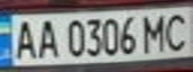0: (63, 16, 87, 58), (103, 15, 121, 56)
3: (81, 16, 106, 57)
6: (118, 13, 142, 55)
A: (9, 17, 39, 61), (33, 16, 60, 60)
C: (160, 10, 193, 52)
M: (139, 11, 172, 54)
